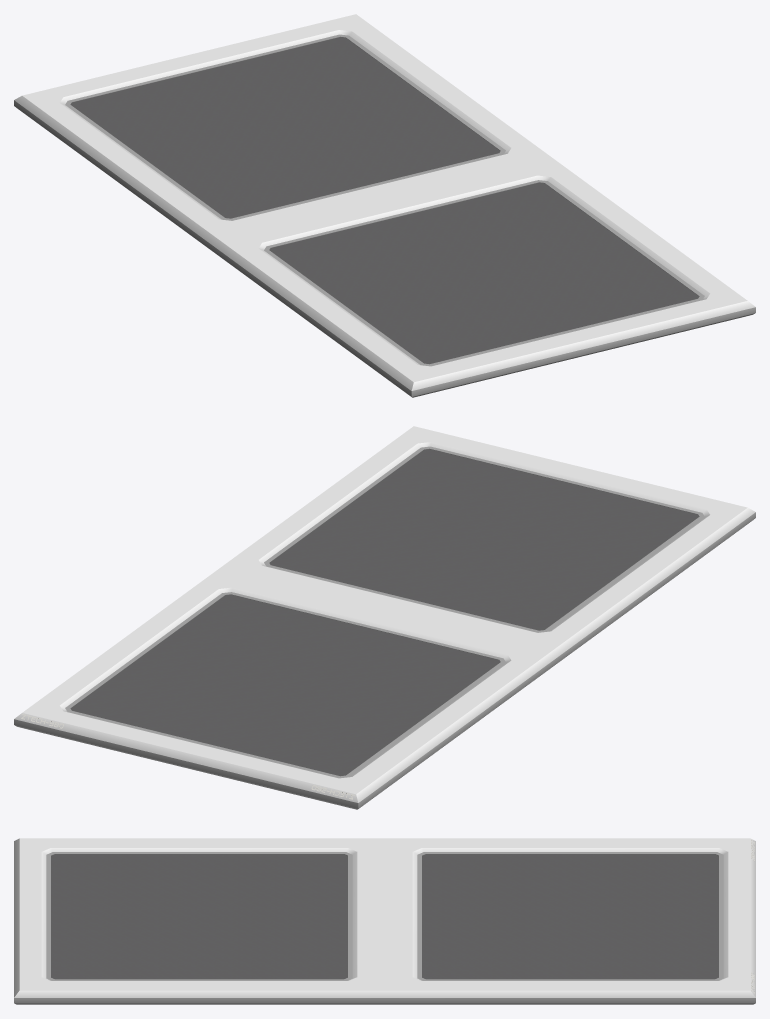
File: cpplatform-2x1-solid.glb
3 renders of one model, top to bottom at view 1: azimuth 30°, elevation 25°; view 2: azimuth 150°, elevation 25°; view 3: azimuth 270°, elevation 25°, orthographic. The views are drawn at different scales.
Parts seen in each view (by area): view 1: Platform-2x1-solid; view 2: Platform-2x1-solid; view 3: Platform-2x1-solid.
Boxes of the visible parts, x1,y1,x2,y2 form: Platform-2x1-solid: [14, 14, 755, 397]; Platform-2x1-solid: [14, 426, 755, 809]; Platform-2x1-solid: [14, 838, 755, 1004].
Size of what is drawn, in the model's own units: 4 by 0.15 by 8.
5 materials, 5 textured.
